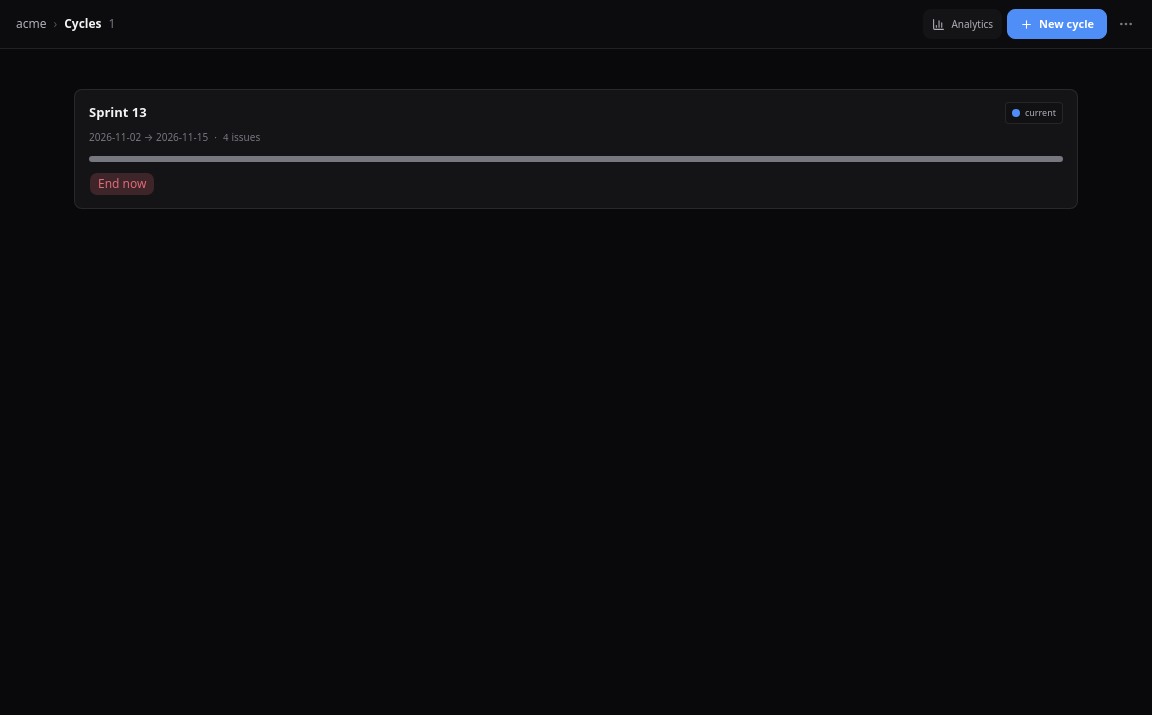
Test case: cycle detail PQL mode (C95T1) › cycle detail PQL editor shows the corrected save hint (C108T1)
The image size is (1152, 715).
Click the button with aria-label "Open cycle Sprint 13" at (118, 112), box [74,89,1078,209]
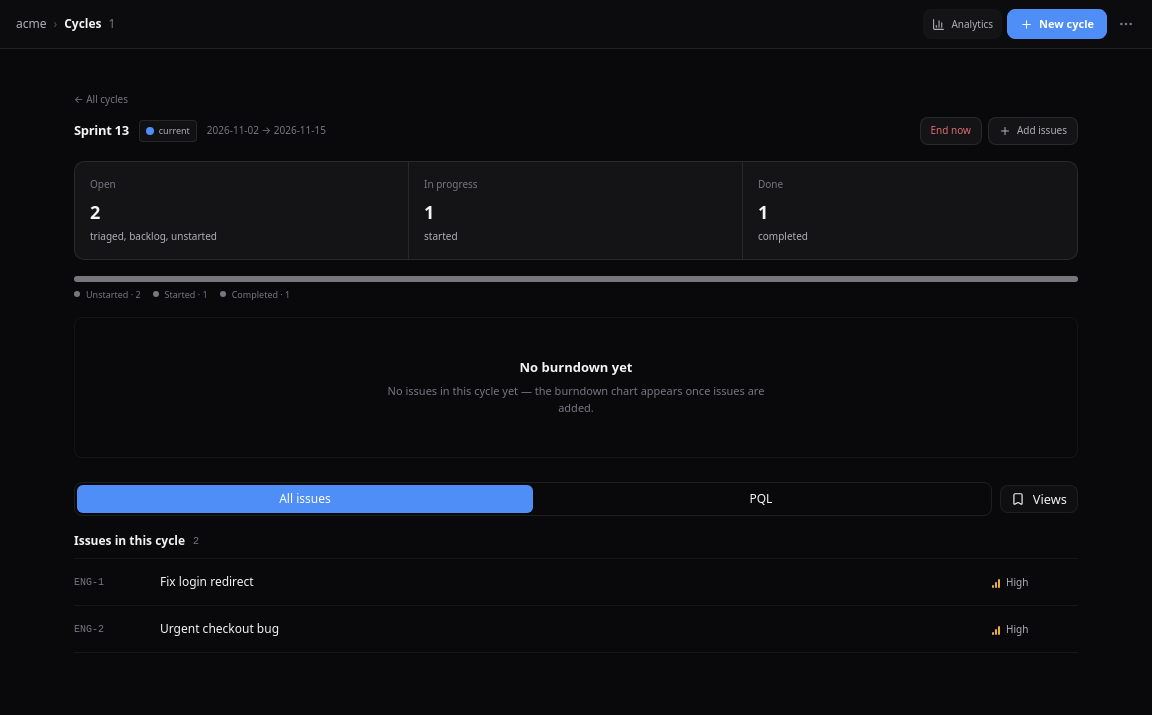
Expected: the heading "Issues in this cycle" is shown, [74,532,185,550]
Expected: the text "Fix login redirect" is shown, [160,573,254,590]
Expected: the text "Urgent checkout bug" is shown, [160,620,279,637]
Click the button "PQL" at (761, 499), box [533,485,989,513]
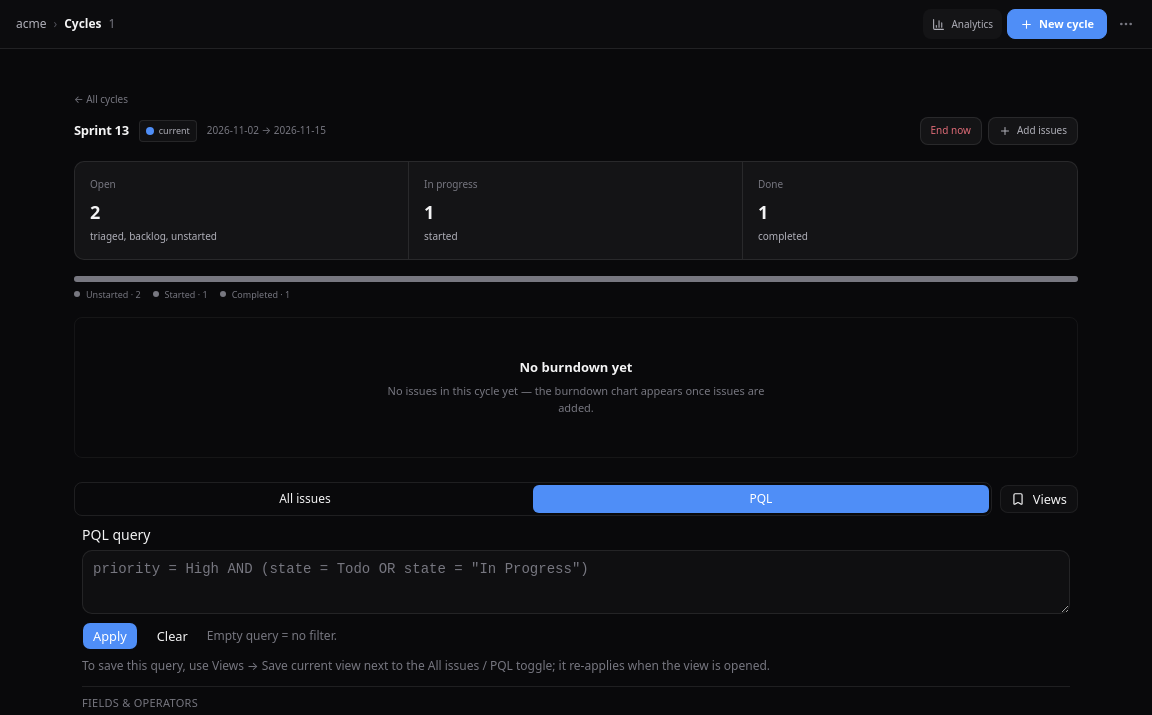
Expected: the text box labelled "PQL query" is shown, [82,550,1070,614]
Expected: the text "To save this query, use Views → Save current view next to the All issues / PQL toggle; it re-applies when the view is op" is shown, [82,657,770,674]
